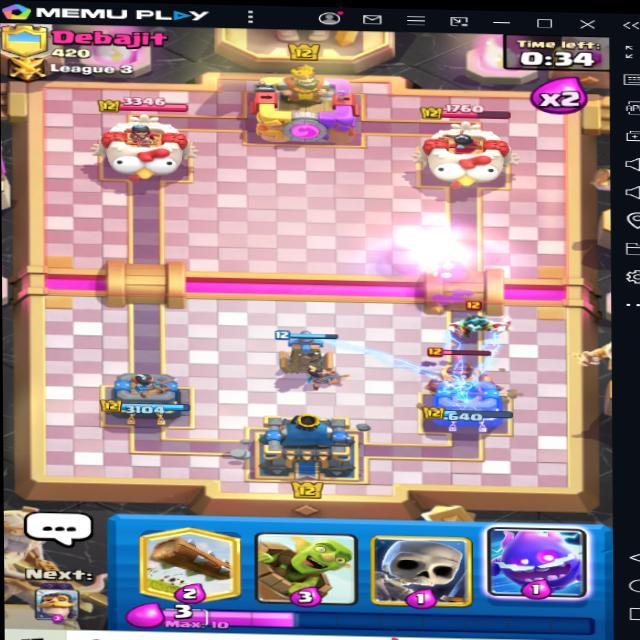electro-wizard: (447, 303, 513, 344)
mega-knight: (426, 344, 500, 400)
